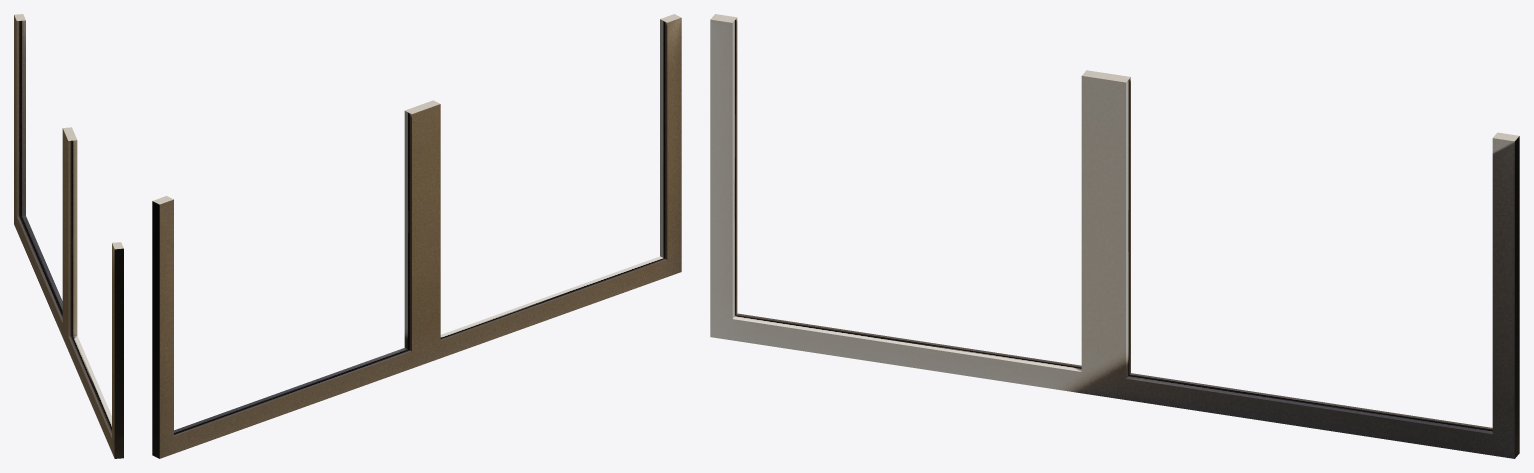
The model's file is Building_05_L03_Ap_04_Frames.fbx.
The picture shows the model from 3 angles, left to right: view 1: azimuth 30°, elevation 25°; view 2: azimuth 150°, elevation 25°; view 3: azimuth 270°, elevation 25°; orthographic projection. The views are drawn at different scales.
Visible parts, largest first — view 1: Building_05_L03_Ap_04_Frames; view 2: Building_05_L03_Ap_04_Frames; view 3: Building_05_L03_Ap_04_Frames.
Boxes of the visible parts, bbox=[...] form: Building_05_L03_Ap_04_Frames: bbox=[14, 14, 123, 458]; Building_05_L03_Ap_04_Frames: bbox=[152, 14, 681, 458]; Building_05_L03_Ap_04_Frames: bbox=[710, 14, 1519, 458].
Bounding box in the file's own units: 1.28 × 1.48 × 3.43.
Materials: 1 (1 with a texture image).
